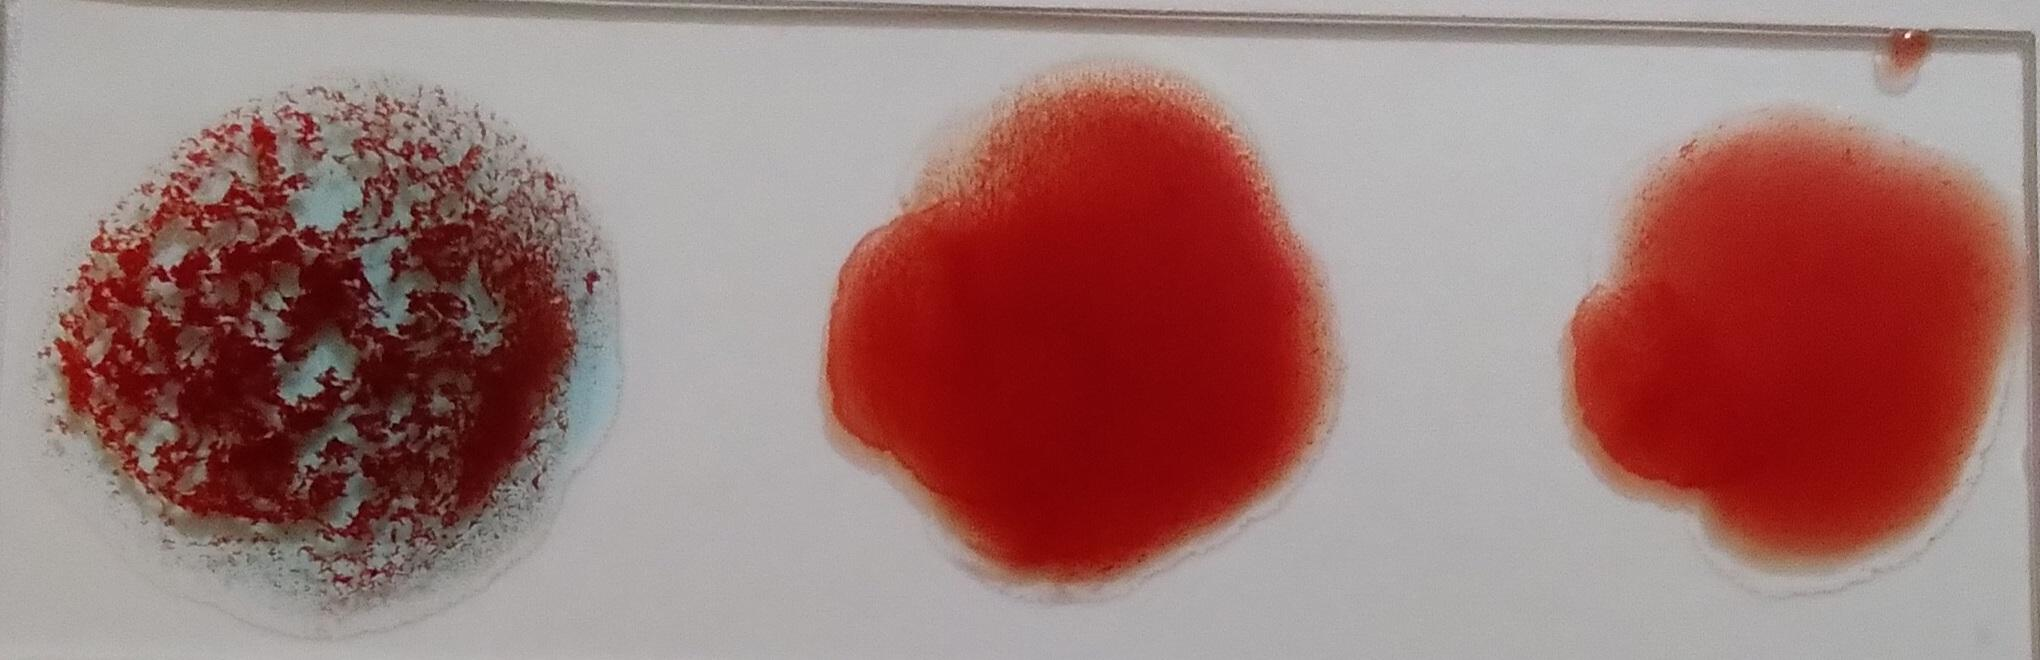A: (40, 82, 602, 646)
